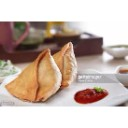samosa: (7, 50, 62, 101), (55, 42, 78, 89)
